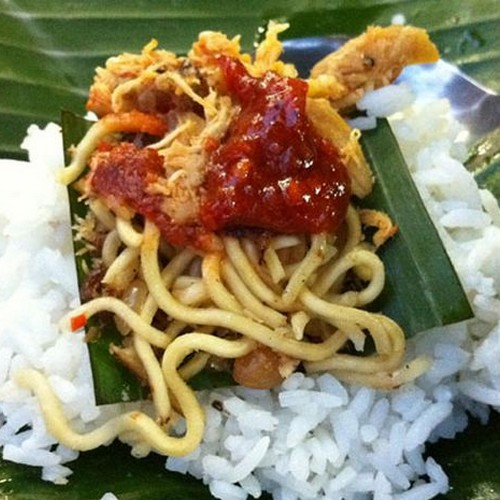nasi jinggo: (5, 50, 486, 477)
